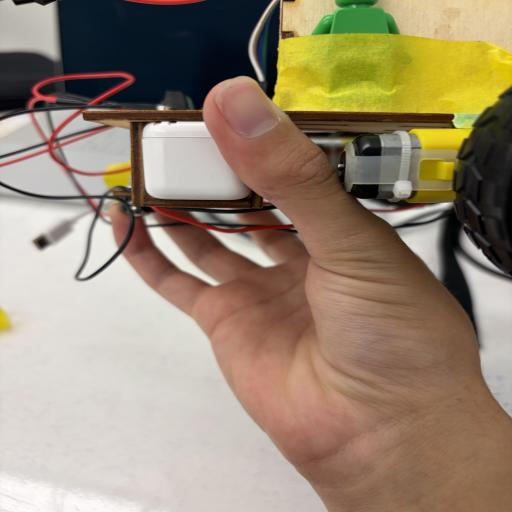Green-Lego: (311, 0, 400, 35)
